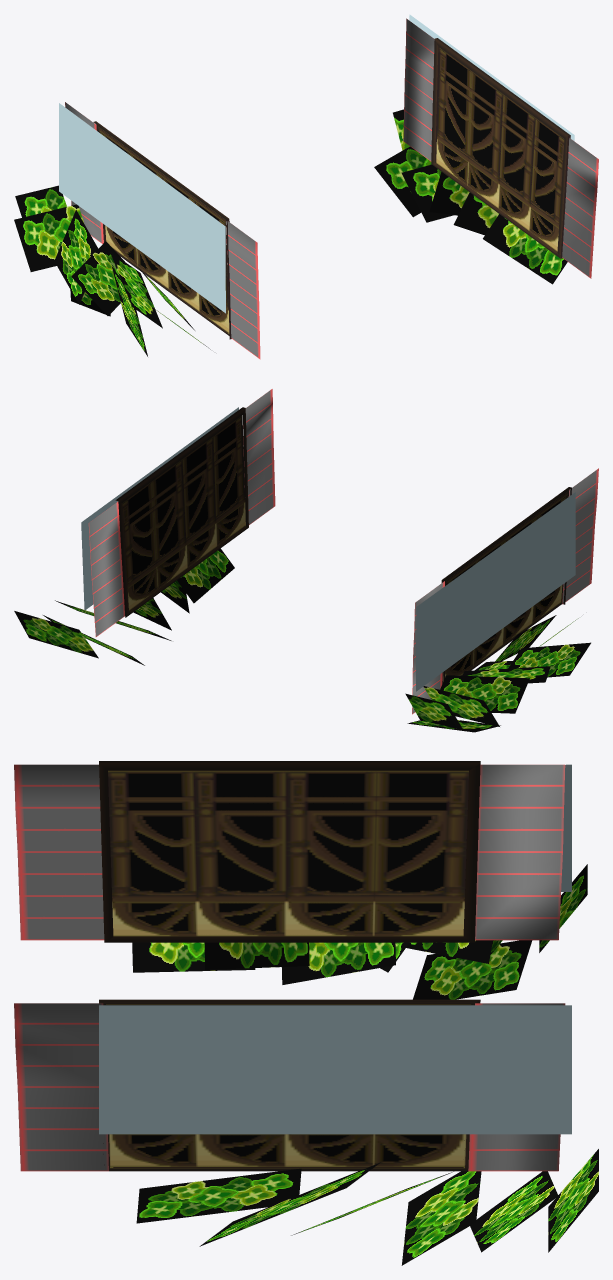
3 views of the same model, one above another, from view 1: azimuth 30°, elevation 25°; view 2: azimuth 150°, elevation 25°; view 3: azimuth 270°, elevation 25° (orthographic). The views are drawn at different scales.
Visible parts, largest first — view 1: l00_kb2; view 2: l00_kb2; view 3: l00_kb2.
Boxes of the visible parts, x1,y1,x2,y2 form: l00_kb2: (14,14,598,359); l00_kb2: (14,389,598,732); l00_kb2: (14,761,598,1265).
Size of the model in its own units: 8.96 by 3.13 by 6.63.
4 materials, 4 textured.
